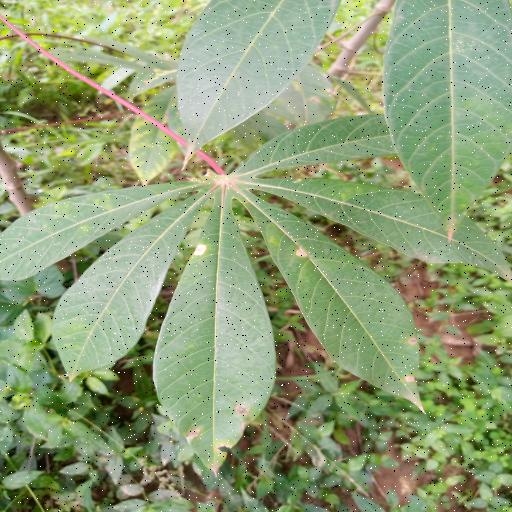Cassava_Brown_Leaf_Spot: (0, 108, 512, 474)
